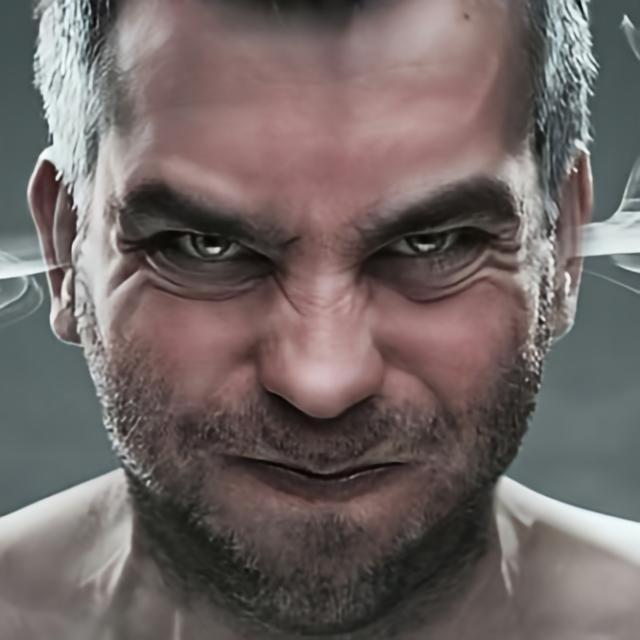anger: (106, 55, 539, 612)
